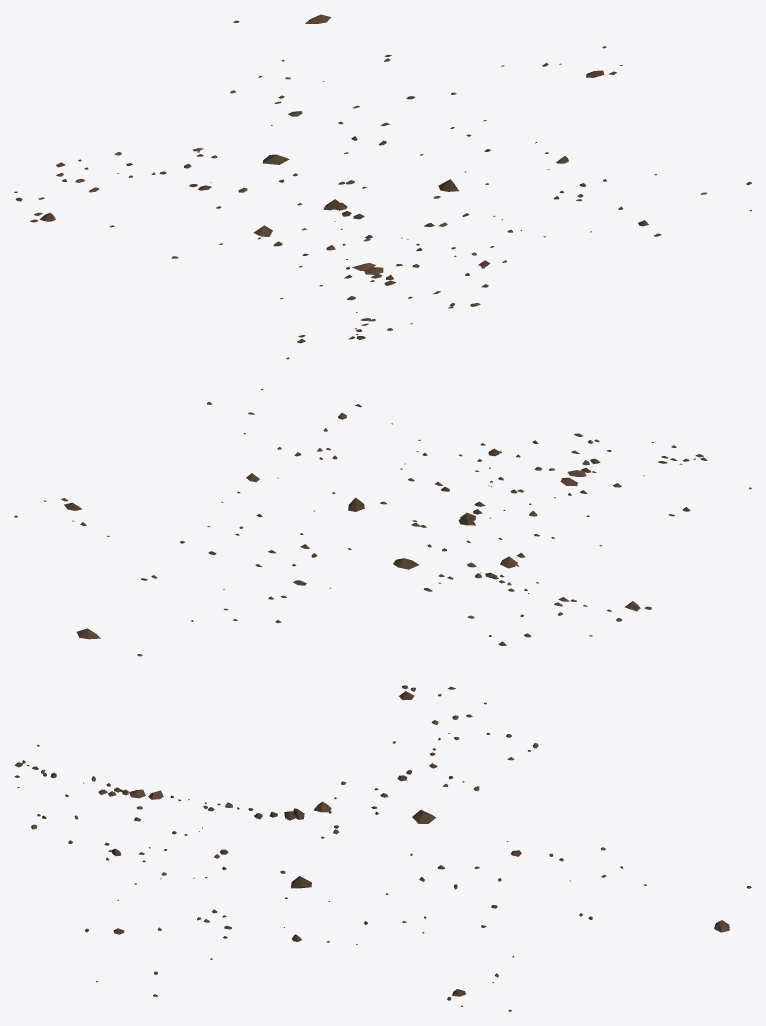
Rendered from ground-1-1.glb.
3 renders of one model, top to bottom at view 1: azimuth 30°, elevation 25°; view 2: azimuth 150°, elevation 25°; view 3: azimuth 270°, elevation 25°, orthographic. The views are drawn at different scales.
Visible parts, largest first — view 1: ground-1-1; view 2: ground-1-1; view 3: ground-1-1.
Part boxes in pixels (box(x1,y1,x2,y2)): ground-1-1: box(14, 14, 751, 359); ground-1-1: box(14, 389, 751, 656); ground-1-1: box(14, 685, 751, 1011).
Bounding box in the file's own units: 19.49 × 1.55 × 19.62.
